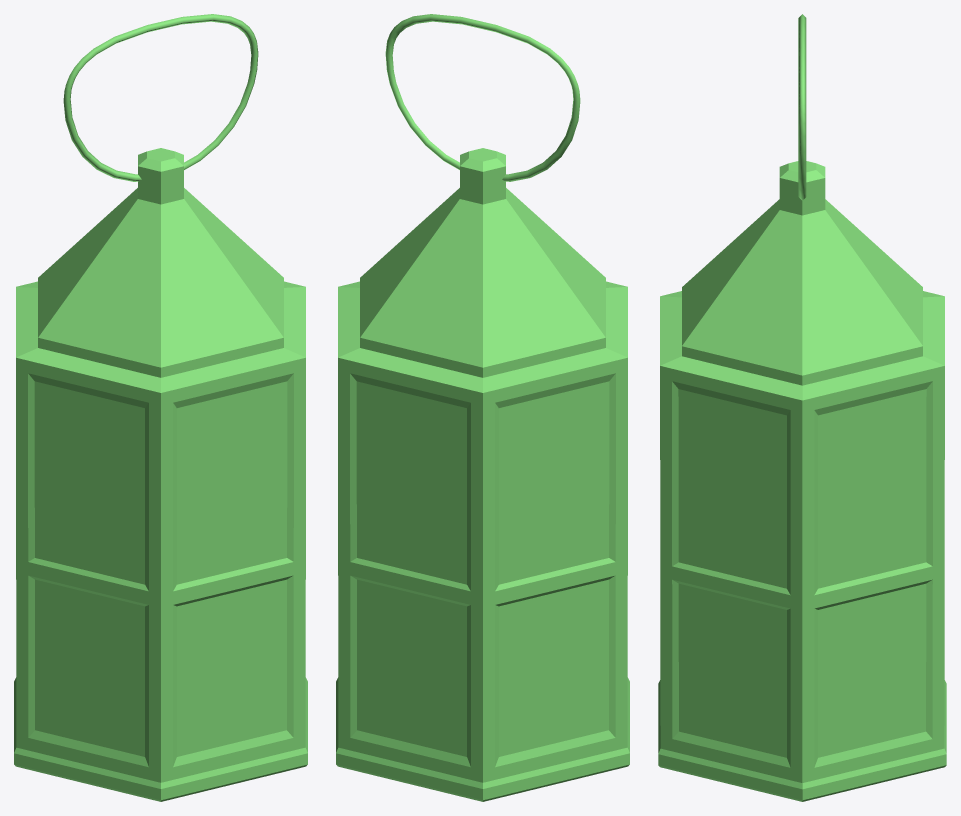
File: LampV1.fbx
3 views of the same model, side by side, from view 1: azimuth 30°, elevation 25°; view 2: azimuth 150°, elevation 25°; view 3: azimuth 270°, elevation 25° (orthographic).
Visible parts, largest first — view 1: LampV1, Nitka; view 2: LampV1, Nitka; view 3: LampV1, Nitka.
Part boxes in pixels (x1,y1,x2,y2): LampV1: (14,148,307,801); Nitka: (63,14,258,181); LampV1: (336,148,629,801); Nitka: (385,14,580,181); LampV1: (658,161,946,801); Nitka: (798,14,806,200).
Bounding box in the file's own units: 36.52 × 84.21 × 31.62.
